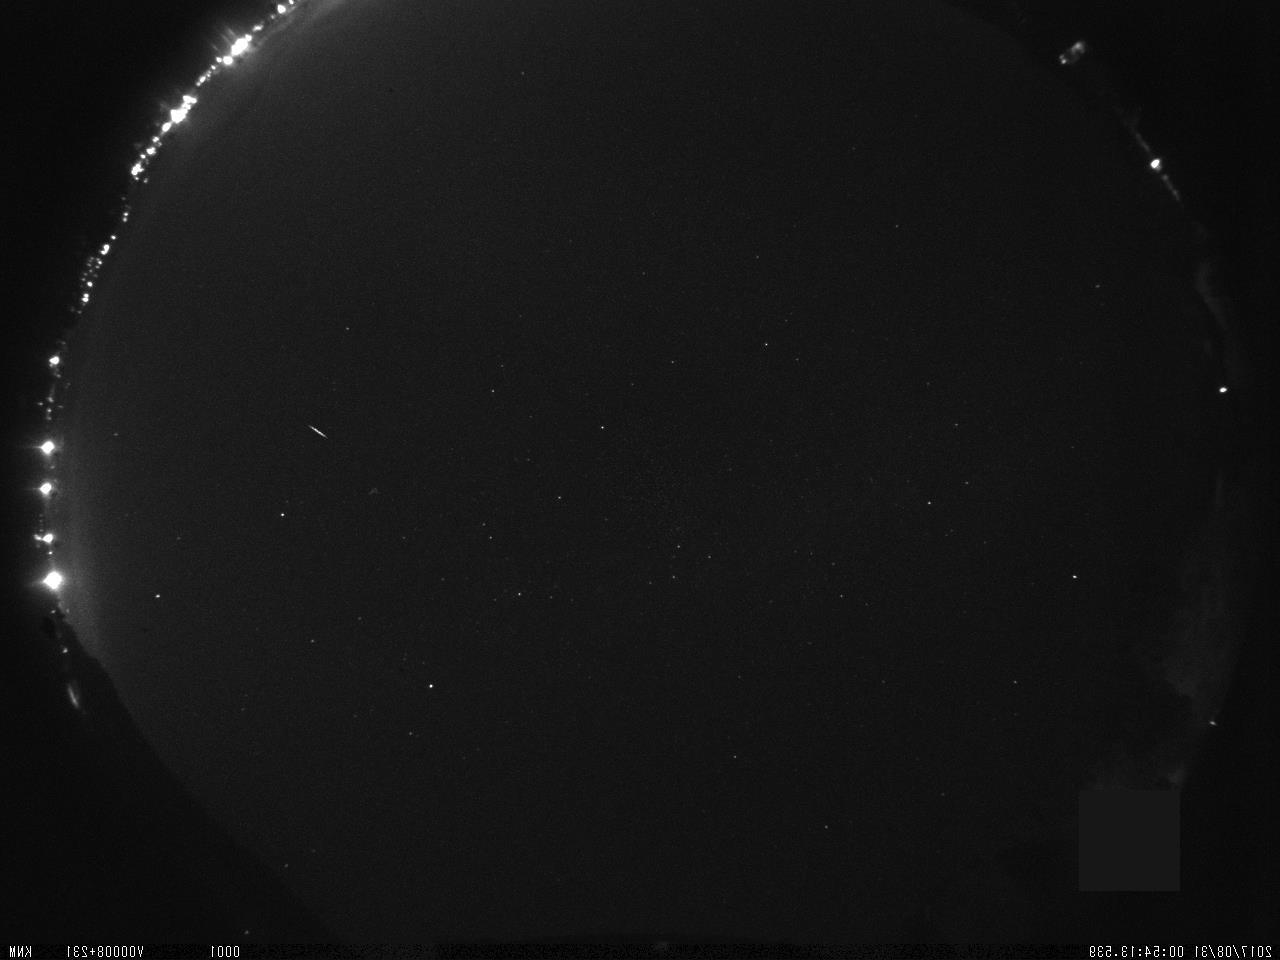meteor: (303, 422, 331, 446)
